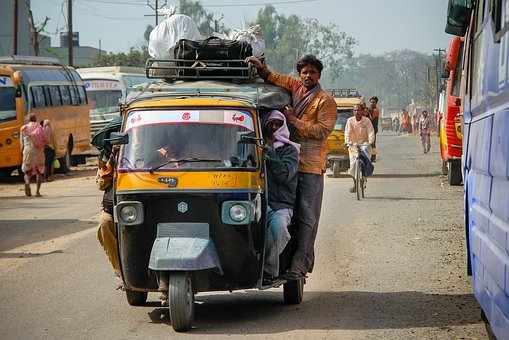bus: (3, 50, 92, 175), (81, 62, 140, 124)
rickshaw: (98, 60, 333, 321)
